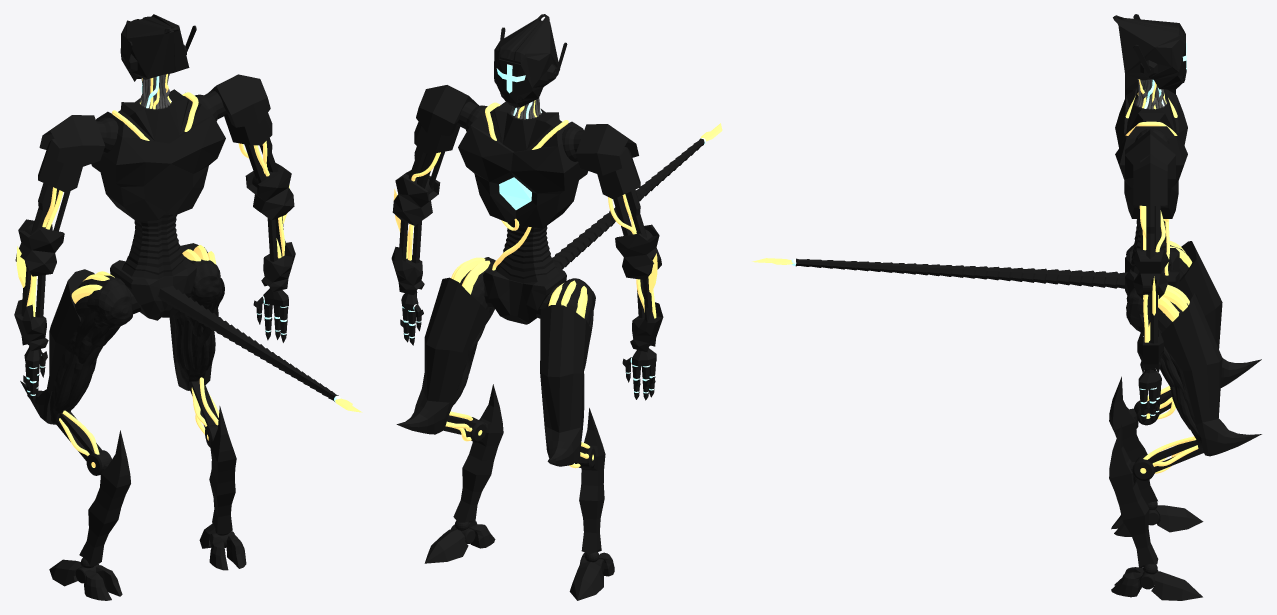
File: robot_mc_with_mat.fbx
The picture shows the model from 3 angles, left to right: view 1: azimuth 30°, elevation 25°; view 2: azimuth 150°, elevation 25°; view 3: azimuth 270°, elevation 25°; orthographic projection. The views are drawn at different scales.
Visible parts, largest first — view 1: chest, head, Cylinder.001, vertebrea, Cube.002, tail, R UPPER LEG, l shoulder, Cube.008, pelvic, r shoulder, l upper arm (+21 smaller); view 2: chest, R UPPER LEG, l UPPER LEG, head, Cube.008, pelvic, vertebrea, Cube.002, l shoulder, l upper arm, r shoulder, tail (+14 smaller); view 3: l UPPER LEG, tail, head, chest, Cube.008, R UPPER LEG, r upper arm, Cube.002, r shoulder, Cylinder, r lower arm, Cube.009 (+5 smaller).
Boxes of the visible parts, x1,y1,x2,y2 form: chest: [91, 89, 225, 221]; head: [120, 14, 189, 81]; Cylinder.001: [50, 275, 132, 423]; vertebrea: [121, 212, 188, 279]; Cube.002: [79, 430, 130, 565]; tail: [158, 285, 338, 401]; R UPPER LEG: [20, 269, 94, 424]; l shoulder: [39, 115, 104, 168]; Cube.008: [209, 406, 236, 534]; pelvic: [110, 258, 196, 320]; r shoulder: [208, 74, 270, 127]; l upper arm: [31, 138, 82, 233]; chest: [458, 101, 588, 228]; R UPPER LEG: [540, 305, 591, 466]; l UPPER LEG: [396, 277, 490, 434]; head: [494, 14, 559, 107]; Cube.008: [453, 384, 503, 522]; pelvic: [483, 267, 566, 324]; vertebrea: [495, 219, 559, 283]; Cube.002: [579, 408, 605, 554]; l shoulder: [575, 124, 638, 175]; l upper arm: [597, 147, 646, 237]; r shoulder: [416, 85, 479, 135]; tail: [552, 138, 704, 269]; l UPPER LEG: [1158, 293, 1261, 456]; tail: [795, 258, 1127, 288]; head: [1113, 15, 1186, 89]; chest: [1115, 88, 1187, 218]; Cube.008: [1109, 424, 1158, 567]; R UPPER LEG: [1179, 241, 1261, 387]; r upper arm: [1133, 154, 1167, 259]; Cube.002: [1109, 376, 1157, 503]; r shoulder: [1125, 129, 1175, 178]; Cylinder: [1126, 288, 1203, 452]; r lower arm: [1137, 276, 1163, 364]; Cube.009: [1151, 571, 1202, 600].
Bounding box in the file's own units: 965 × 1872 × 1596.
